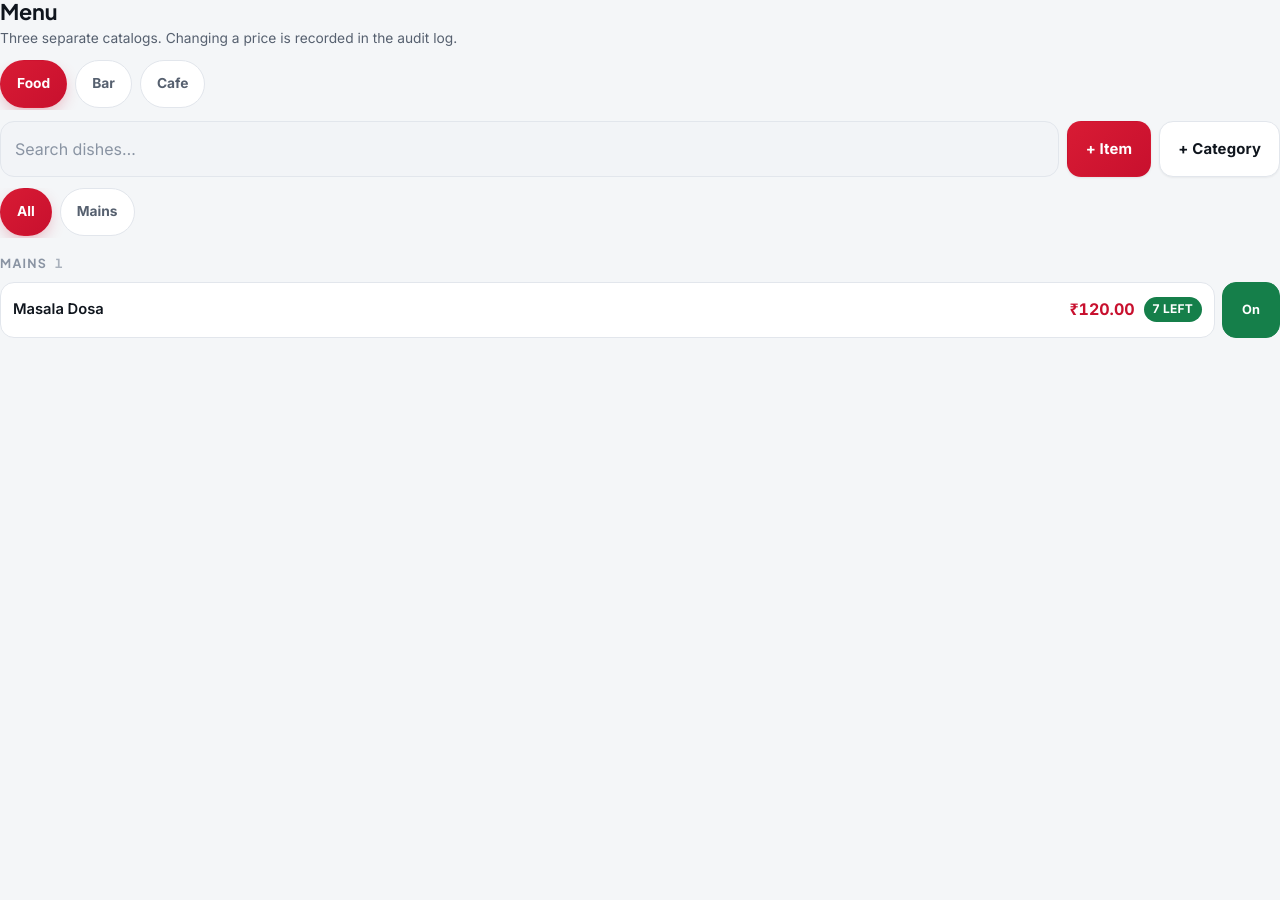
Test: catalog editor › a mistyped stock count does not switch stock tracking off
Click the text "Masala Dosa". click: (58, 310)
box: [13,298,104,321]
(page scrolled)
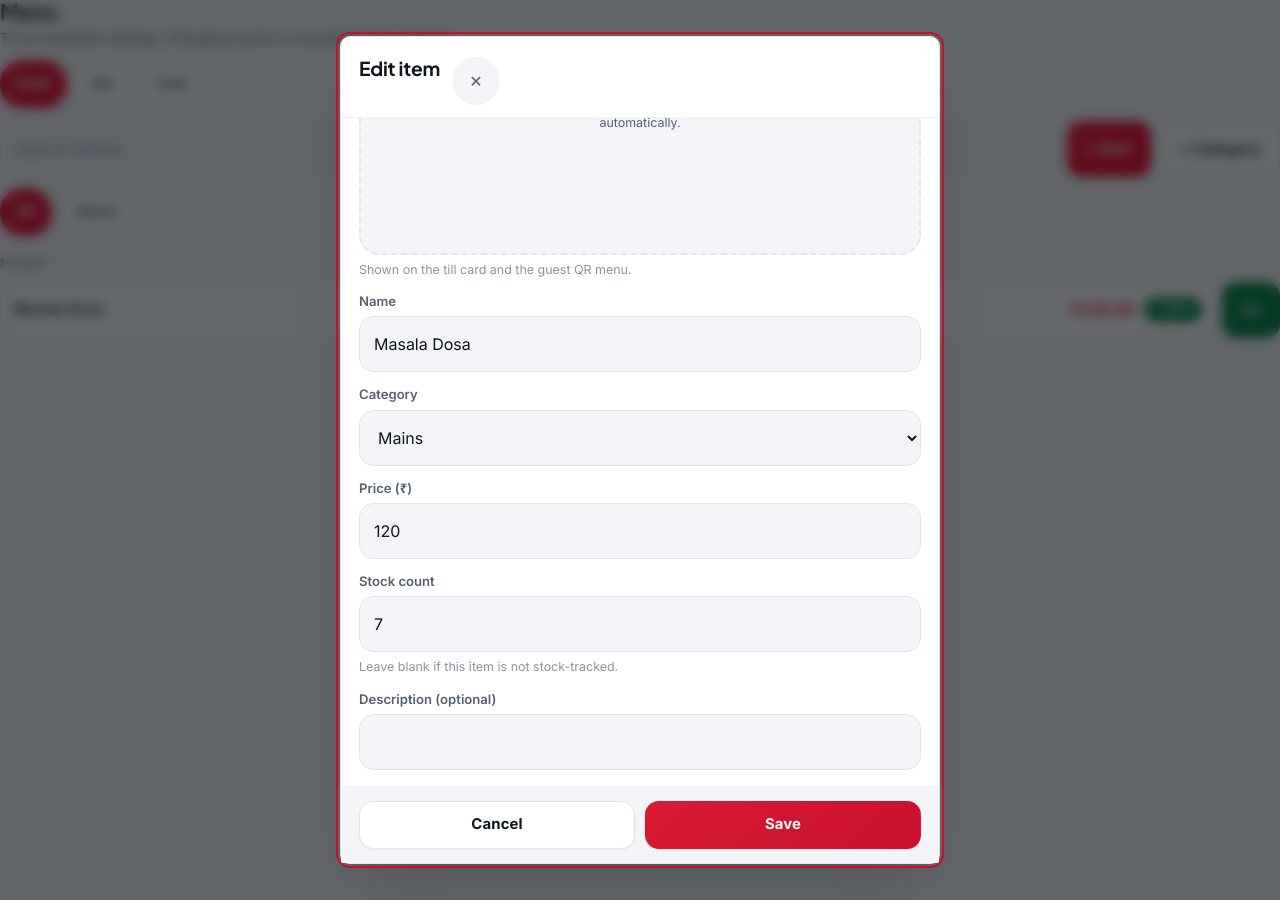
Replace the text in the field labelled "Stock count Leave blank if this item is not stock-tracked." with "abc". click: (640, 624)
box: [359,596,921,652]
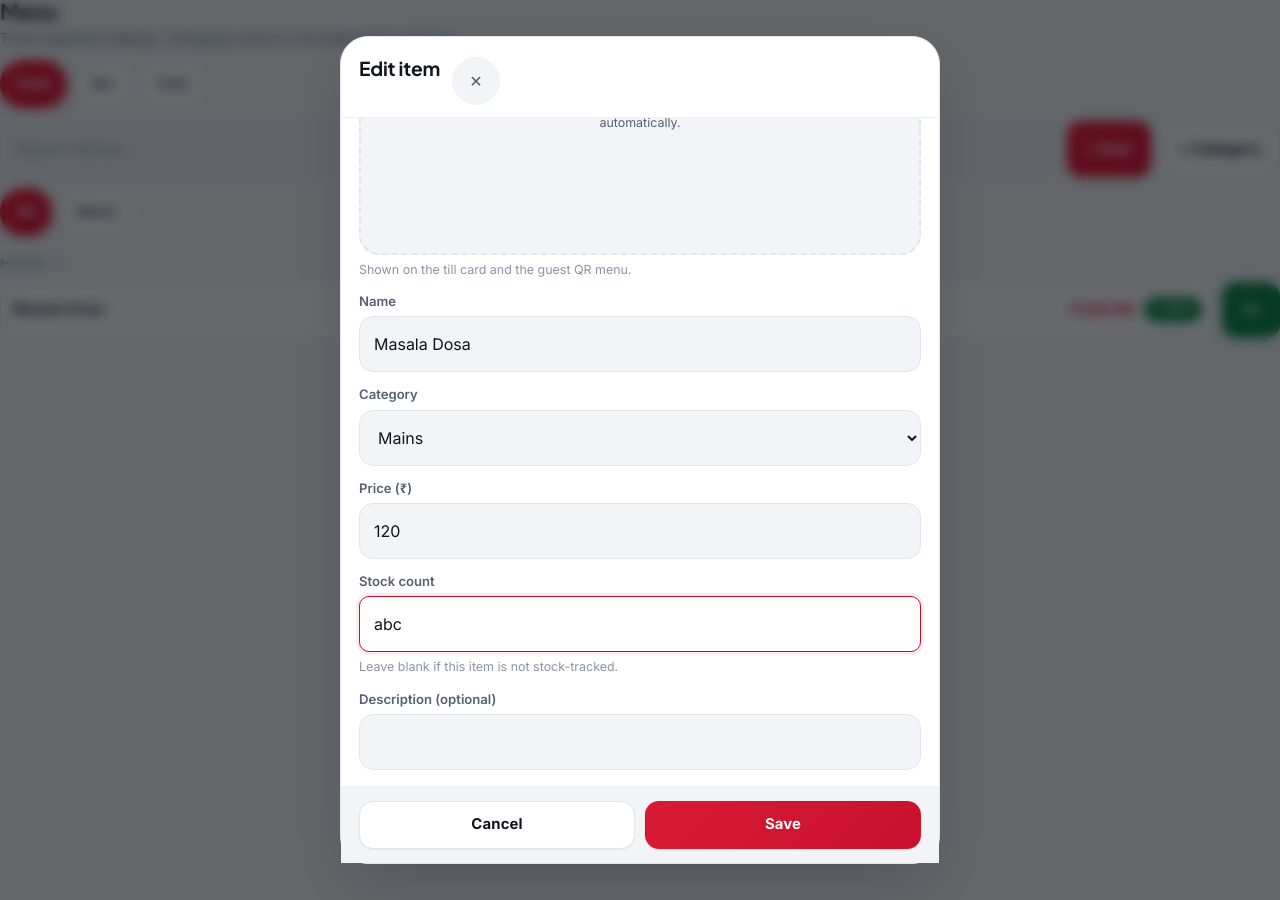
Click the button "Save". click: (783, 825)
box: [645,801,921,849]
(page scrolled)
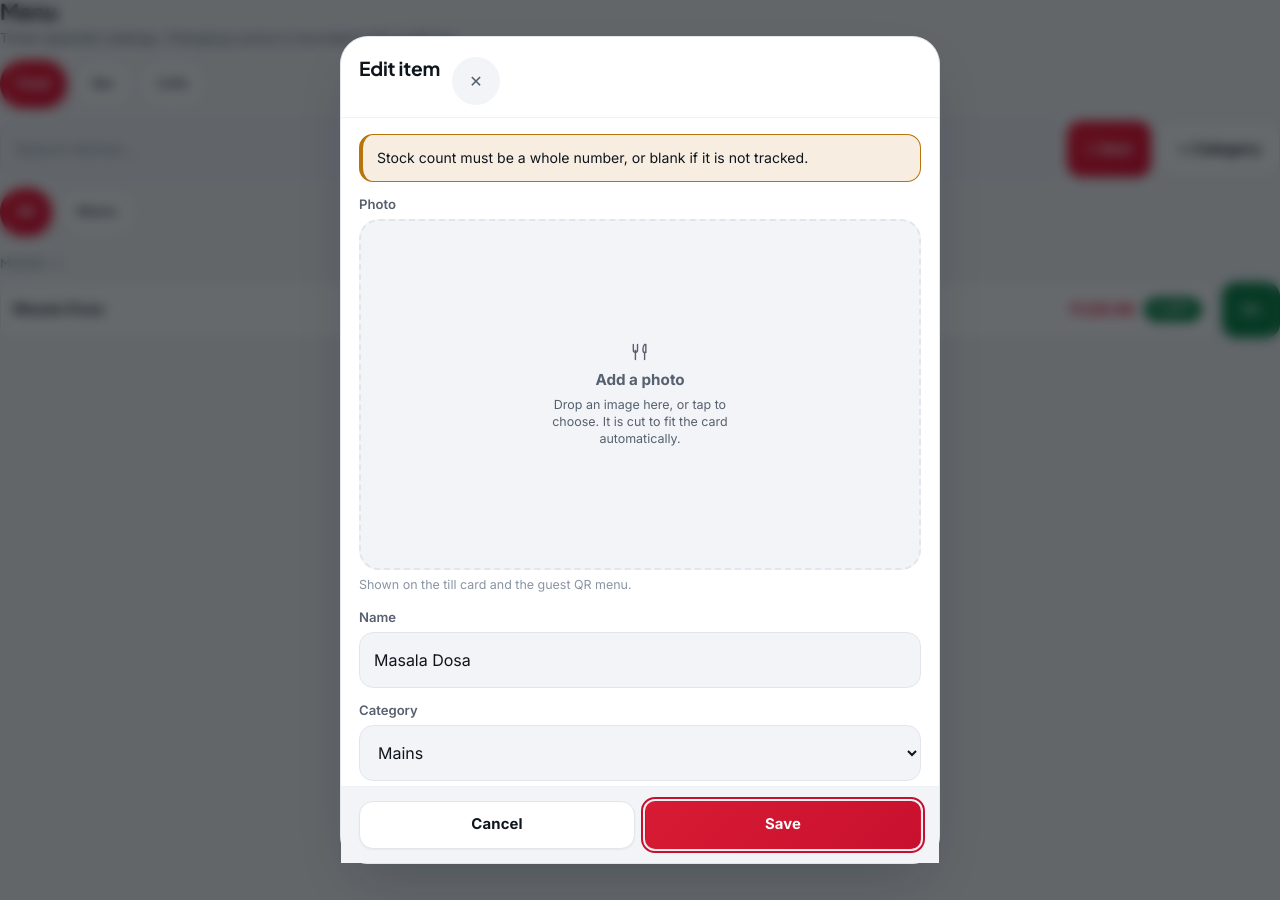
expect the text "whole number" is shown: met, box [377,149,808,166]
